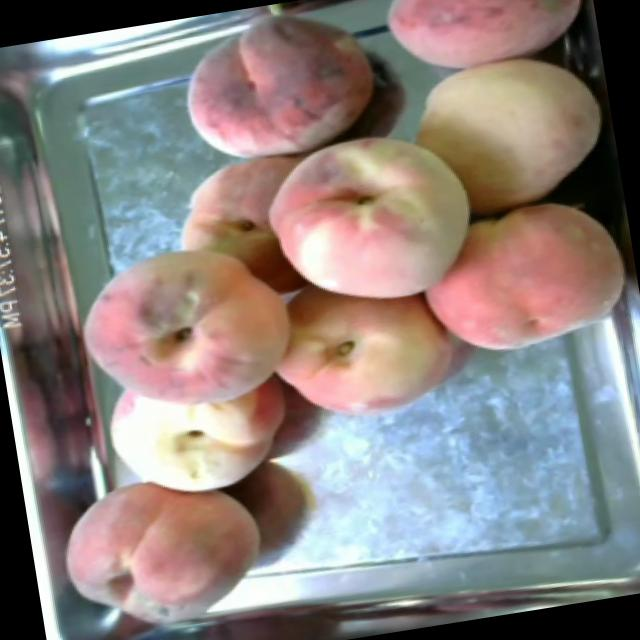Fruit: (245, 115, 509, 332), (65, 225, 314, 440), (37, 452, 285, 640), (400, 190, 640, 377), (386, 42, 623, 224), (168, 0, 407, 169), (254, 265, 476, 441), (364, 0, 608, 131)
